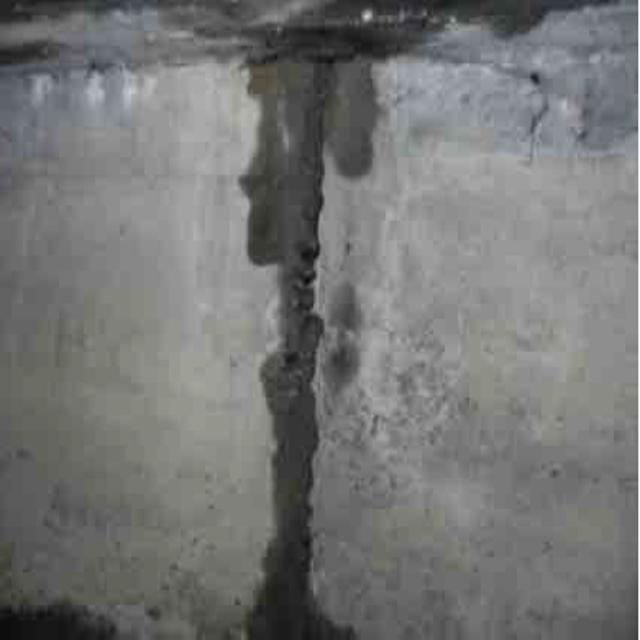leakage: (243, 24, 371, 640)
